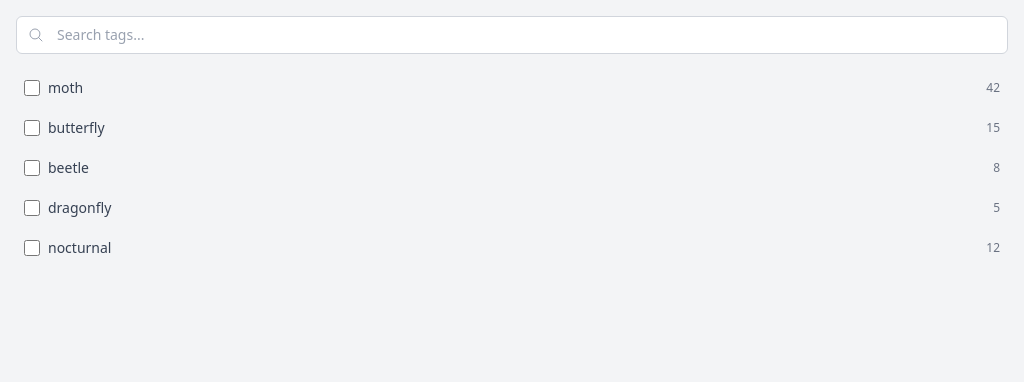
TagFilter › Selected Tags Display › shows count of selected tags
Step 1. Click the checkbox named "select tag moth" → (32, 88), box [24,80,40,96]
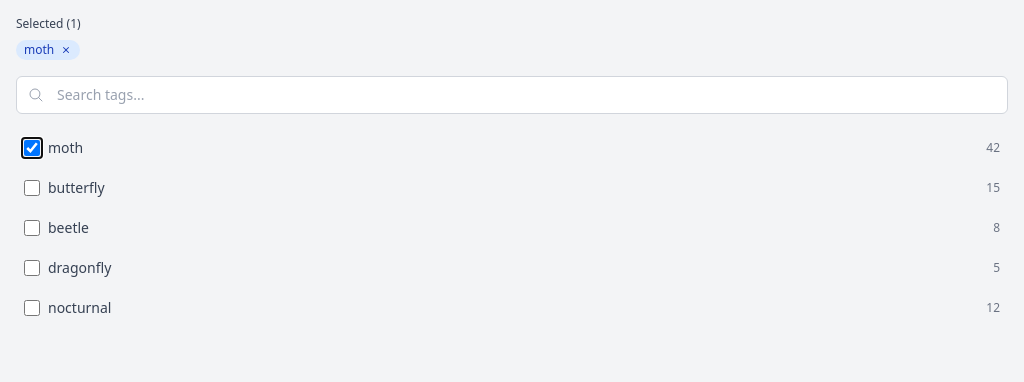
Step 2. Click the checkbox named "select tag butterfly" → (32, 188), box [24,180,40,196]
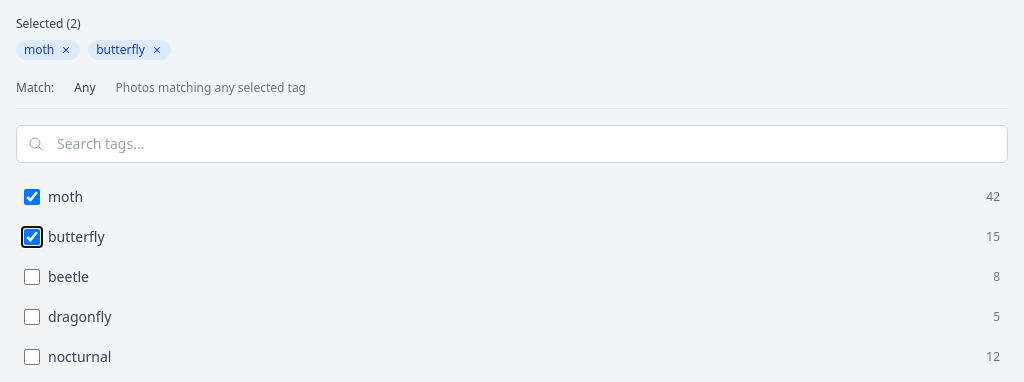
Expected: the text "Selected (2)" is shown, [16,15,81,32]
